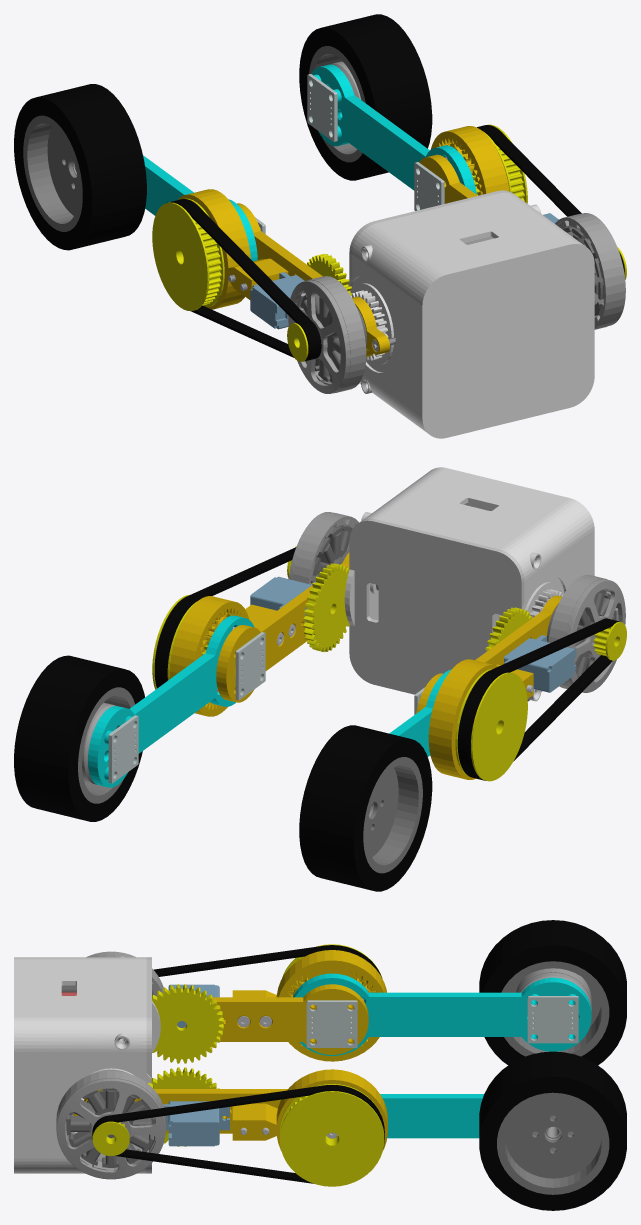
Rendered from ria.glb.
The picture shows the model from 3 angles, top to bottom: view 1: azimuth 30°, elevation 25°; view 2: azimuth 150°, elevation 25°; view 3: azimuth 270°, elevation 25°; orthographic projection. The views are drawn at different scales.
Parts seen in each view (by area): view 1: head_top, left_leg/upper_leg/lower_leg/wheel/tire, right_leg/upper_leg/lower_leg/wheel/tire, right_leg/upper_leg/lower_leg/lower_leg, left_leg/upper_leg/pulley, left_leg/upper_leg/lower_leg/wheel/wheel, left_leg/upper_leg/5010/5010_rotor_1, left_leg/upper_leg/belt, left_leg/upper_leg/ring, right_leg/upper_leg/5010/5010_rotor_1, right_leg/upper_leg/ring, left_leg/upper_leg/upper_leg (+13 smaller); view 2: head_bottom, head_top, left_leg/upper_leg/lower_leg/wheel/tire, right_leg/upper_leg/lower_leg/wheel/tire, right_leg/upper_leg/lower_leg/lower_leg, left_leg/upper_leg/lower_leg/wheel/wheel, left_leg/upper_leg/pulley, left_leg/upper_leg/belt, right_leg/upper_leg/upper_leg, left_leg/upper_leg/ring, left_leg/upper_leg/5010/5010_rotor_1, right_leg/upper_leg/ring (+15 smaller); view 3: head_top, right_leg/upper_leg/lower_leg/wheel/tire, left_leg/upper_leg/lower_leg/lower_leg, right_leg/upper_leg/lower_leg/wheel/wheel, left_leg/upper_leg/lower_leg/wheel/tire, right_leg/upper_leg/pulley, left_leg/upper_leg/upper_leg, right_leg/upper_leg/5010/5010_rotor_1, left_leg/upper_leg/pinion, right_leg/upper_leg/lower_leg/lower_leg, right_leg/upper_leg/belt, left_leg/upper_leg/ring (+13 smaller).
Part boxes in pixels (x1,y1,x2,y2): head_top: (348, 192, 594, 438); left_leg/upper_leg/lower_leg/wheel/tire: (14, 84, 146, 250); right_leg/upper_leg/lower_leg/wheel/tire: (299, 14, 432, 180); right_leg/upper_leg/lower_leg/lower_leg: (311, 64, 476, 194); left_leg/upper_leg/pulley: (152, 198, 224, 310); left_leg/upper_leg/lower_leg/wheel/wheel: (23, 115, 82, 231); left_leg/upper_leg/5010/5010_rotor_1: (288, 276, 366, 393); left_leg/upper_leg/belt: (167, 199, 321, 361); left_leg/upper_leg/ring: (178, 189, 288, 309); right_leg/upper_leg/5010/5010_rotor_1: (555, 213, 625, 329); right_leg/upper_leg/ring: (430, 126, 509, 195); left_leg/upper_leg/upper_leg: (237, 203, 389, 356); head_bottom: (349, 518, 524, 694); head_top: (344, 467, 594, 701); left_leg/upper_leg/lower_leg/wheel/tire: (299, 725, 432, 891); right_leg/upper_leg/lower_leg/wheel/tire: (14, 655, 144, 821); right_leg/upper_leg/lower_leg/lower_leg: (88, 615, 254, 787); left_leg/upper_leg/lower_leg/wheel/wheel: (363, 757, 422, 873); left_leg/upper_leg/pulley: (455, 669, 527, 781); left_leg/upper_leg/belt: (457, 618, 619, 780); right_leg/upper_leg/upper_leg: (216, 552, 349, 702); left_leg/upper_leg/ring: (428, 659, 533, 779); left_leg/upper_leg/5010/5010_rotor_1: (548, 574, 625, 692); right_leg/upper_leg/ring: (169, 596, 276, 716); head_top: (14, 956, 160, 1173); right_leg/upper_leg/lower_leg/wheel/tire: (479, 1051, 626, 1210); left_leg/upper_leg/lower_leg/lower_leg: (293, 973, 591, 1055); right_leg/upper_leg/lower_leg/wheel/wheel: (497, 1092, 609, 1194); left_leg/upper_leg/lower_leg/wheel/tire: (479, 920, 626, 1065); right_leg/upper_leg/pulley: (280, 1084, 384, 1186); left_leg/upper_leg/upper_leg: (212, 984, 368, 1054); right_leg/upper_leg/5010/5010_rotor_1: (56, 1071, 166, 1179); left_leg/upper_leg/pinion: (152, 984, 223, 1063); right_leg/upper_leg/lower_leg/lower_leg: (380, 1094, 483, 1138); right_leg/upper_leg/belt: (92, 1085, 384, 1183); left_leg/upper_leg/ring: (232, 950, 386, 1061).
Size of the model in its own units: 0.1678 by 0.077 by 0.2774.
